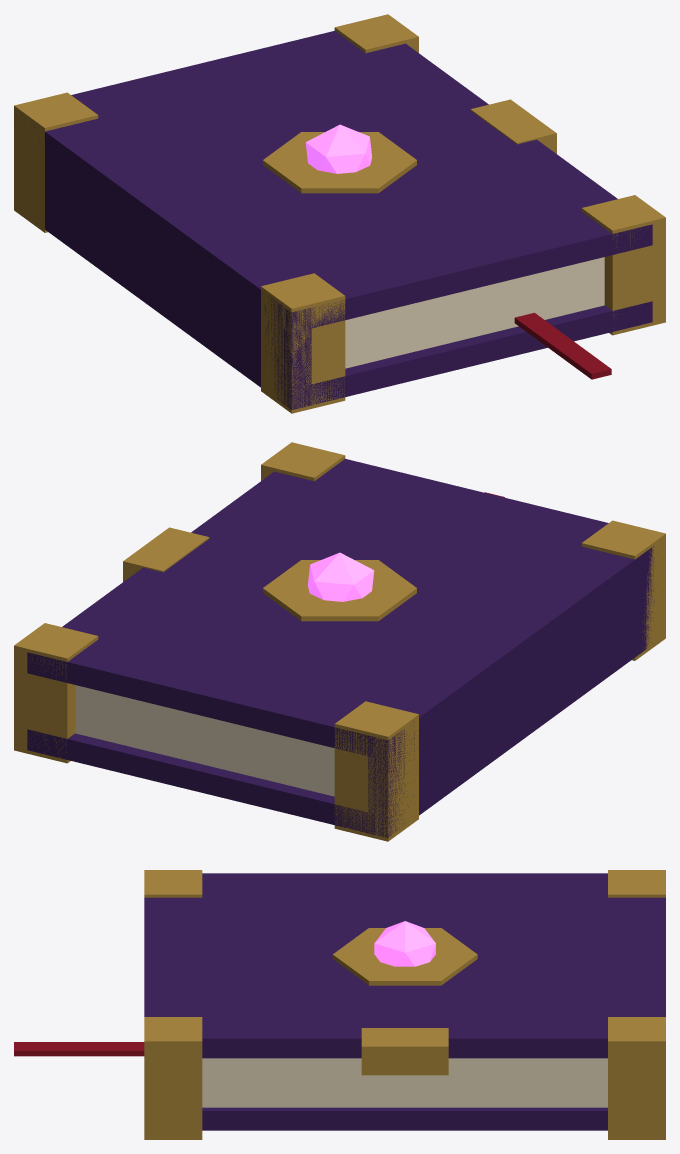
File: spellbook.glb
3 views of the same model, one above another, from view 1: azimuth 30°, elevation 25°; view 2: azimuth 150°, elevation 25°; view 3: azimuth 270°, elevation 25° (orthographic). The views are drawn at different scales.
Visible parts, largest first — view 1: CoverFront, Spine, Pages, Corner_-1-1, CoverBack, Corner_1-1, Corner_-11, Emblem.001, EmblemGlow.001, Clasp, Ribbon, Corner_11; view 2: CoverFront, Spine, Pages, Corner_-11, CoverBack, Corner_11, Emblem.001, Corner_-1-1, EmblemGlow.001, Clasp, Corner_1-1; view 3: CoverFront, Pages, CoverBack, Corner_1-1, Corner_11, Emblem.001, Clasp, Spine, EmblemGlow.001, Ribbon, Corner_-1-1, Corner_-11.
Boxes of the visible parts, box(x1,y1,x2,y2) form: CoverFront: box(58, 30, 652, 329); Spine: box(34, 127, 311, 409); Pages: box(345, 257, 604, 368); Corner_-1-1: box(261, 273, 345, 413); CoverBack: box(305, 301, 652, 406); Corner_1-1: box(581, 195, 665, 335); Corner_-11: box(14, 92, 98, 232); Emblem.001: box(263, 132, 416, 193); EmblemGlow.001: box(305, 124, 372, 173); Clasp: box(470, 99, 556, 153); Ribbon: box(514, 312, 611, 379); Corner_11: box(334, 14, 418, 53); CoverFront: box(27, 458, 620, 757); Spine: box(368, 546, 654, 837); Pages: box(75, 685, 334, 796); Corner_-11: box(334, 701, 418, 841); CoverBack: box(27, 729, 374, 834); Corner_11: box(14, 623, 98, 763); Emblem.001: box(263, 560, 416, 621); Corner_-1-1: box(581, 520, 665, 660); EmblemGlow.001: box(307, 552, 374, 601); Clasp: box(123, 527, 209, 581); Corner_1-1: box(261, 442, 345, 481); CoverFront: box(144, 879, 665, 1058); Pages: box(202, 1058, 607, 1107); CoverBack: box(202, 1107, 607, 1130); Corner_1-1: box(144, 1017, 202, 1139); Corner_11: box(608, 1017, 665, 1139); Emblem.001: box(332, 928, 477, 985); Clasp: box(361, 1028, 448, 1075); Spine: box(202, 873, 607, 882); EmblemGlow.001: box(374, 921, 435, 966); Ribbon: box(14, 1042, 144, 1056); Corner_-1-1: box(144, 870, 202, 897); Corner_-11: box(608, 870, 665, 897).
Bounding box in the file's own units: 0.285 × 0.1015 × 0.45.
